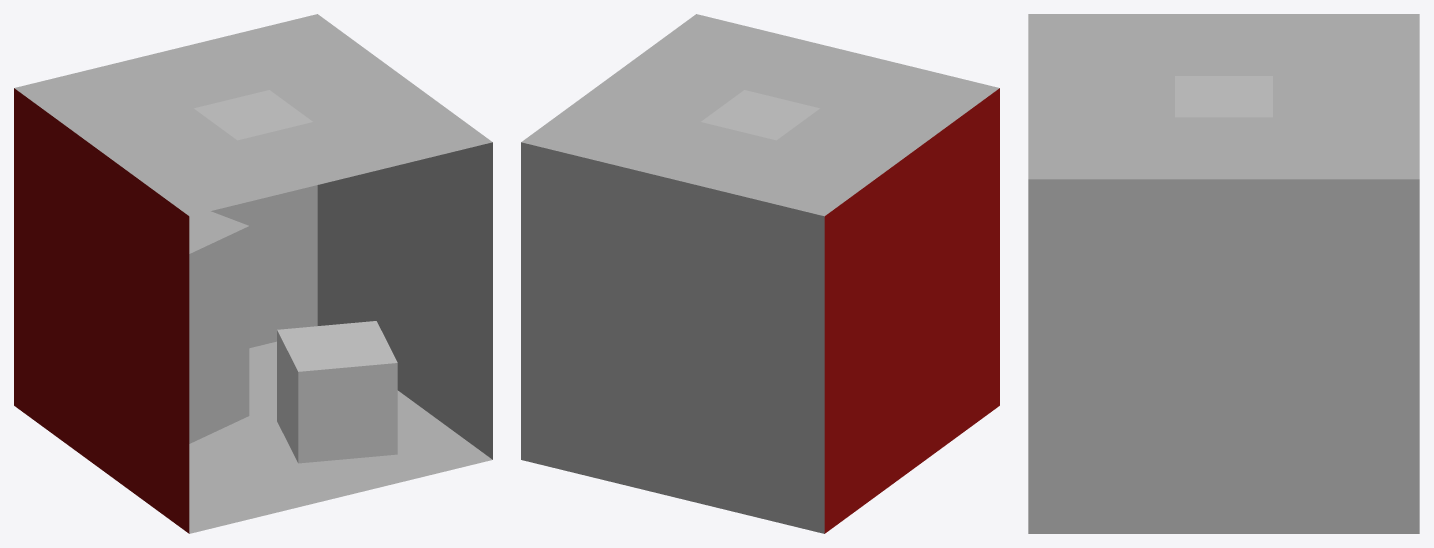
The model's file is cornellbox.obj.
3 renders of one model, left to right at view 1: azimuth 30°, elevation 25°; view 2: azimuth 150°, elevation 25°; view 3: azimuth 270°, elevation 25°, orthographic. The views are drawn at different scales.
Visible parts, largest first — view 1: Room, LeftWall, RightWall, ShortBox, TallBox, CeilingLight; view 2: Room, LeftWall, CeilingLight; view 3: RightWall, Room, CeilingLight.
Part boxes in pixels (bbox=[...]): Room: bbox=[14, 14, 492, 533]; LeftWall: bbox=[14, 88, 189, 533]; RightWall: bbox=[317, 142, 492, 459]; ShortBox: bbox=[277, 321, 397, 463]; TallBox: bbox=[189, 211, 249, 443]; CeilingLight: bbox=[194, 90, 312, 140]; Room: bbox=[521, 14, 999, 533]; LeftWall: bbox=[824, 88, 999, 533]; CeilingLight: bbox=[701, 90, 819, 140]; RightWall: bbox=[1028, 179, 1419, 533]; Room: bbox=[1028, 14, 1419, 179]; CeilingLight: bbox=[1175, 76, 1272, 117].
Size of the model in its own units: 1 by 1 by 1.
